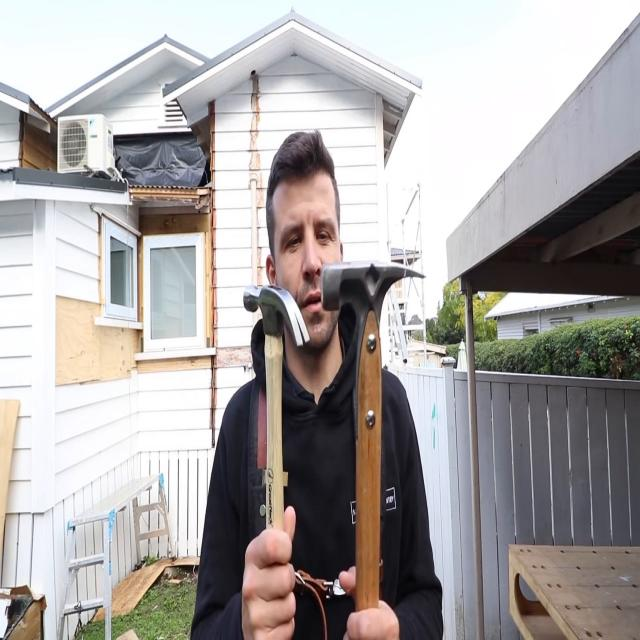hammer: (320, 260, 428, 615), (242, 282, 311, 603)
